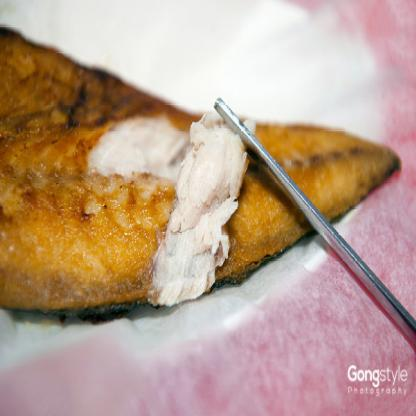Peixe: (0, 55, 397, 300)
